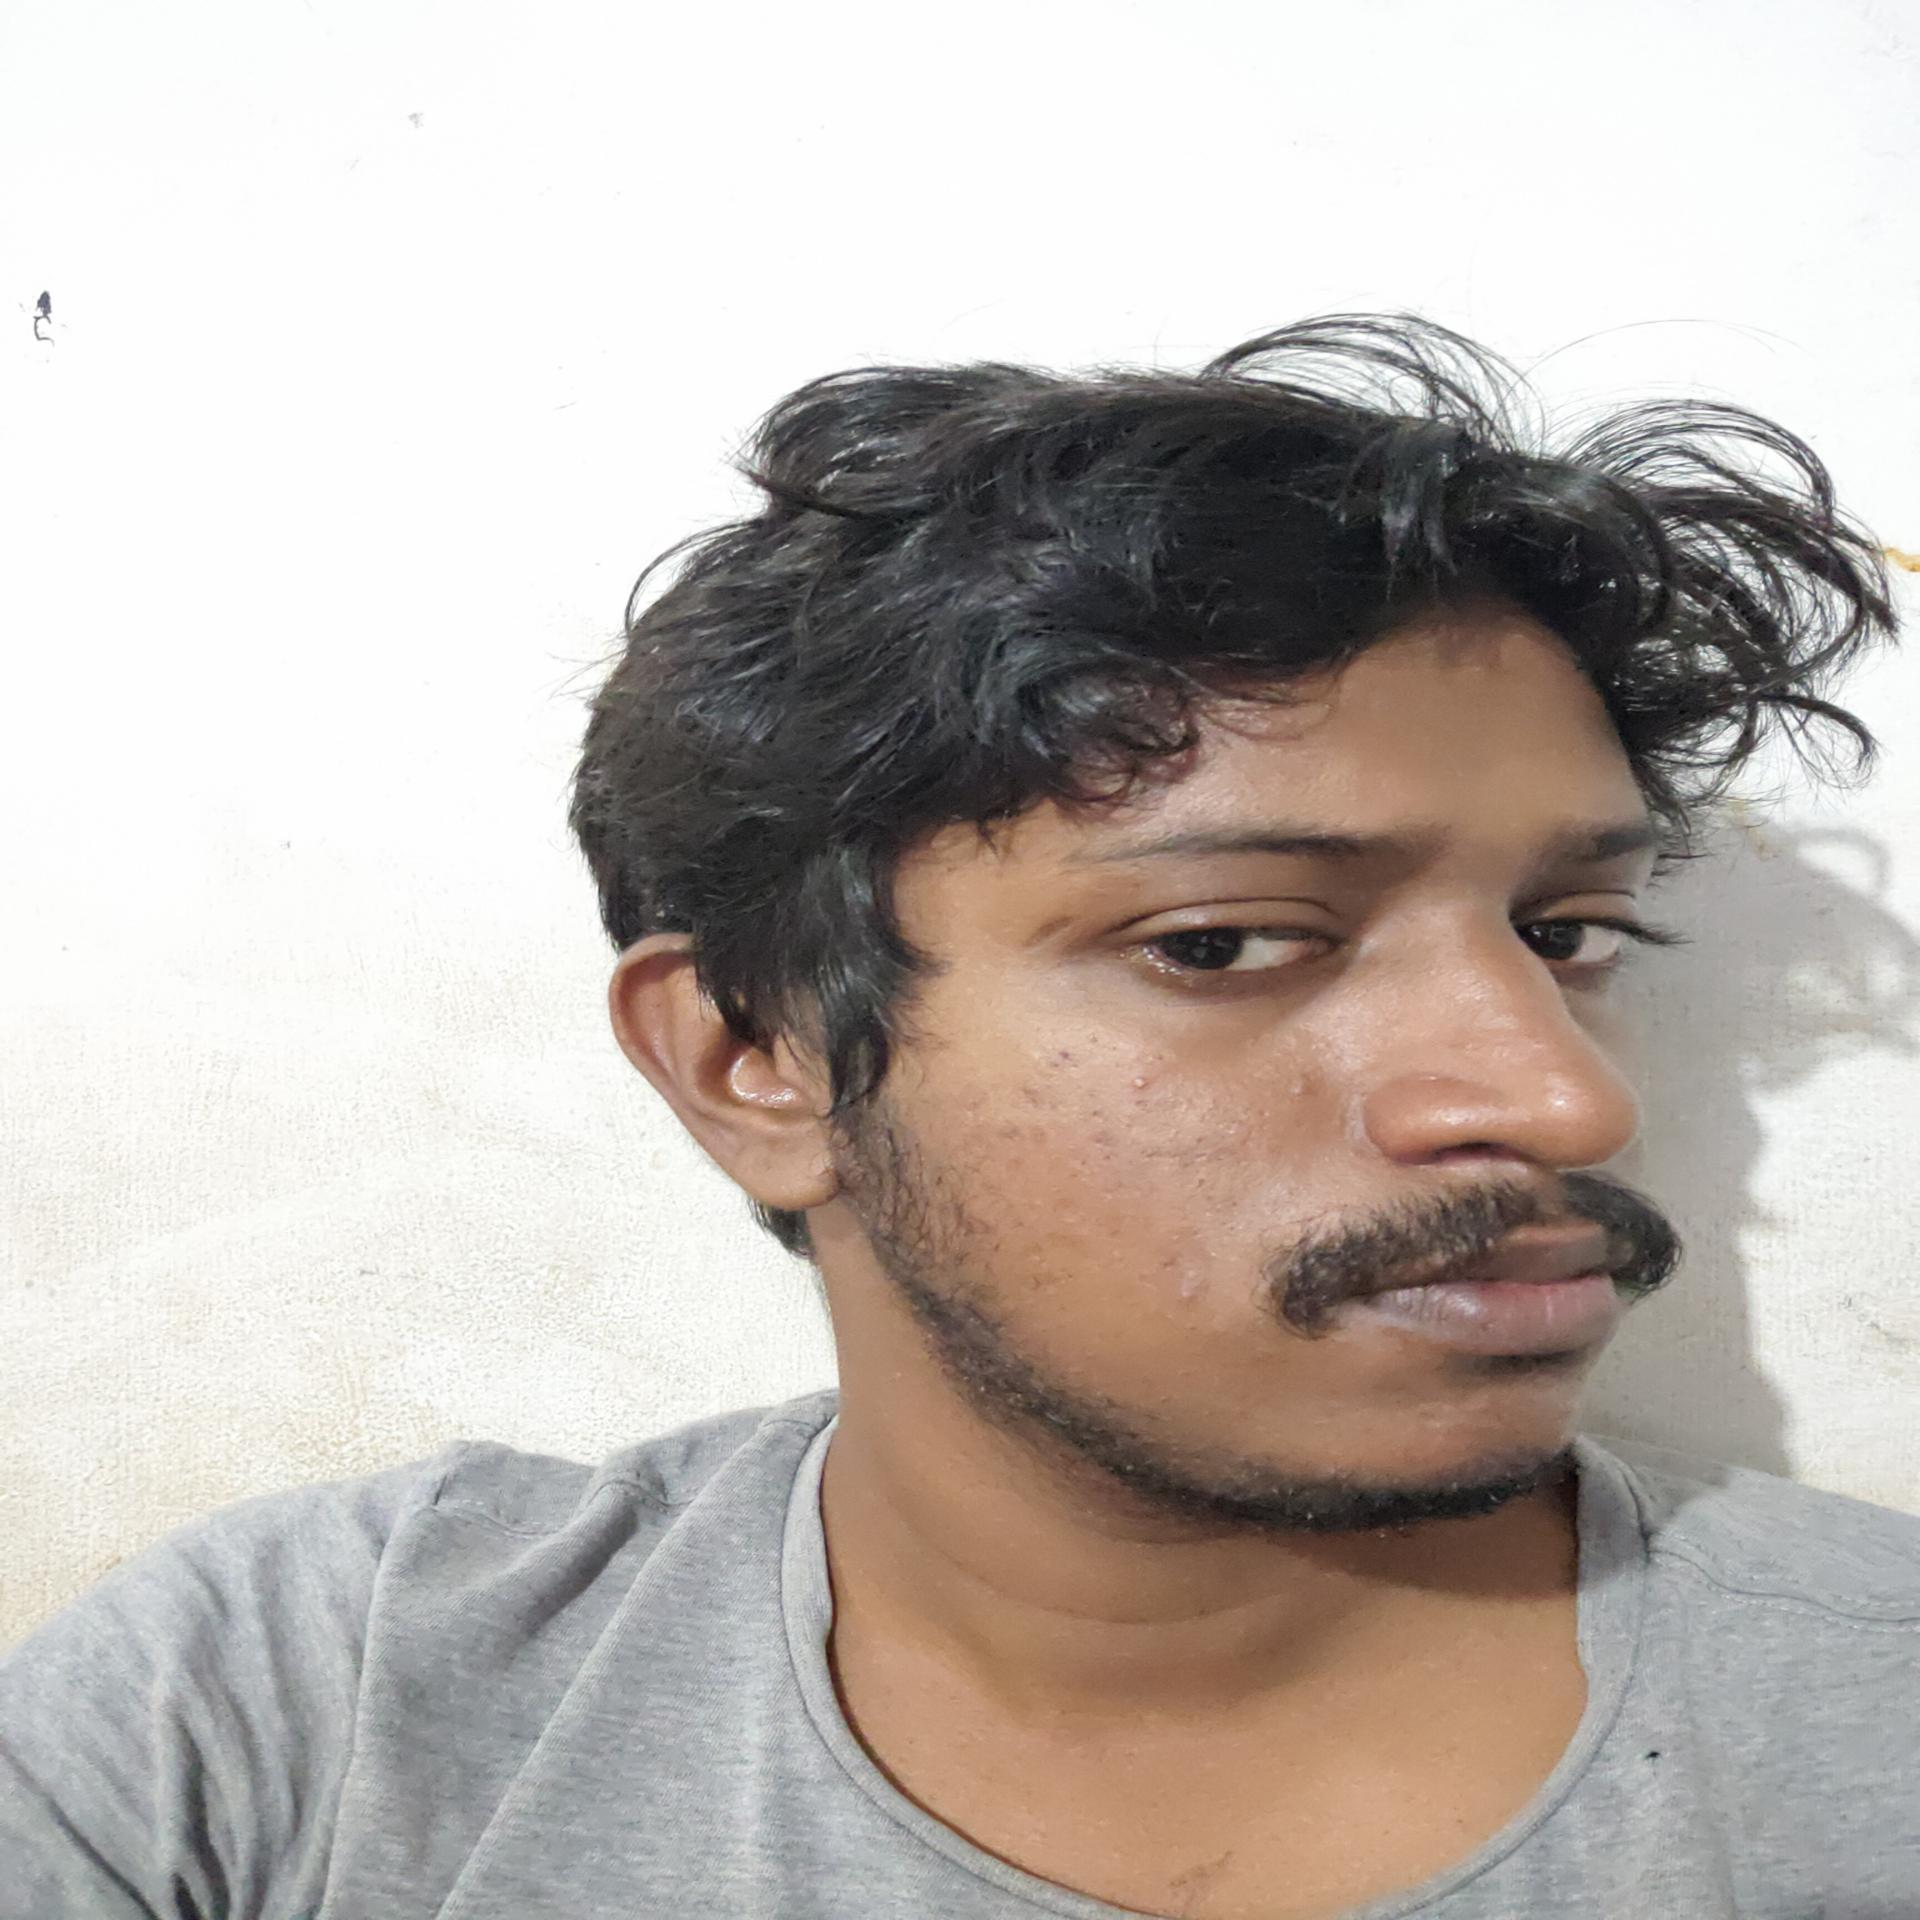Acne: (1022, 1023, 1129, 1157), (1284, 1074, 1335, 1115), (1171, 1271, 1217, 1310), (1127, 1071, 1162, 1101), (1422, 1067, 1454, 1087)
Englarged Pores: (1088, 1106, 1319, 1203)
